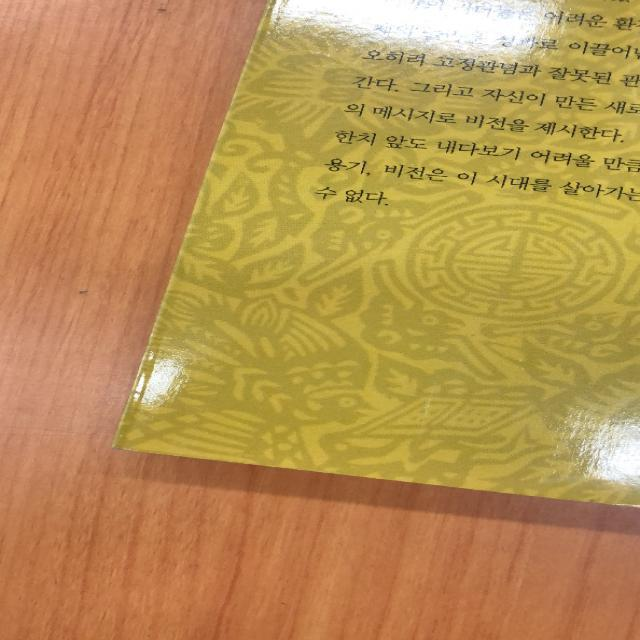Wornout: (105, 433, 158, 460), (605, 490, 638, 511)
